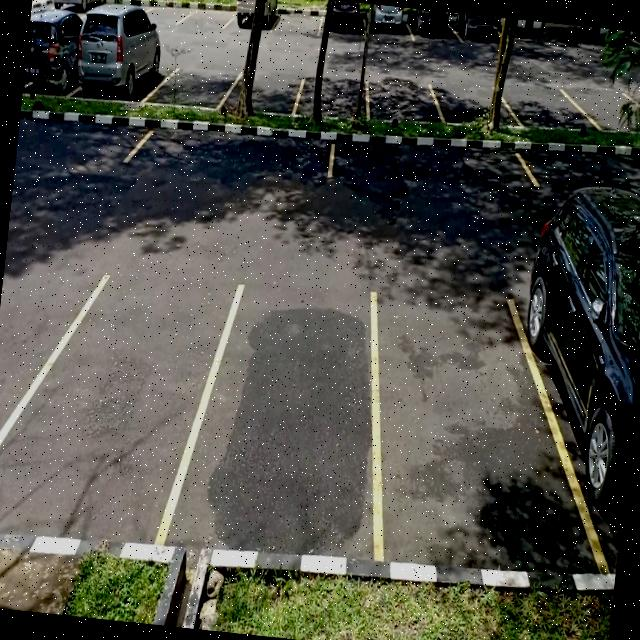empty: (356, 286, 561, 574), (12, 266, 222, 546), (193, 277, 392, 564), (326, 130, 543, 210), (121, 114, 336, 190), (156, 60, 238, 113), (364, 74, 438, 126), (296, 73, 371, 124), (434, 80, 508, 130), (505, 80, 579, 130), (231, 66, 301, 116), (271, 0, 325, 38), (179, 0, 235, 33)
occupied: (70, 22, 164, 112), (362, 3, 413, 44), (317, 0, 368, 41)
